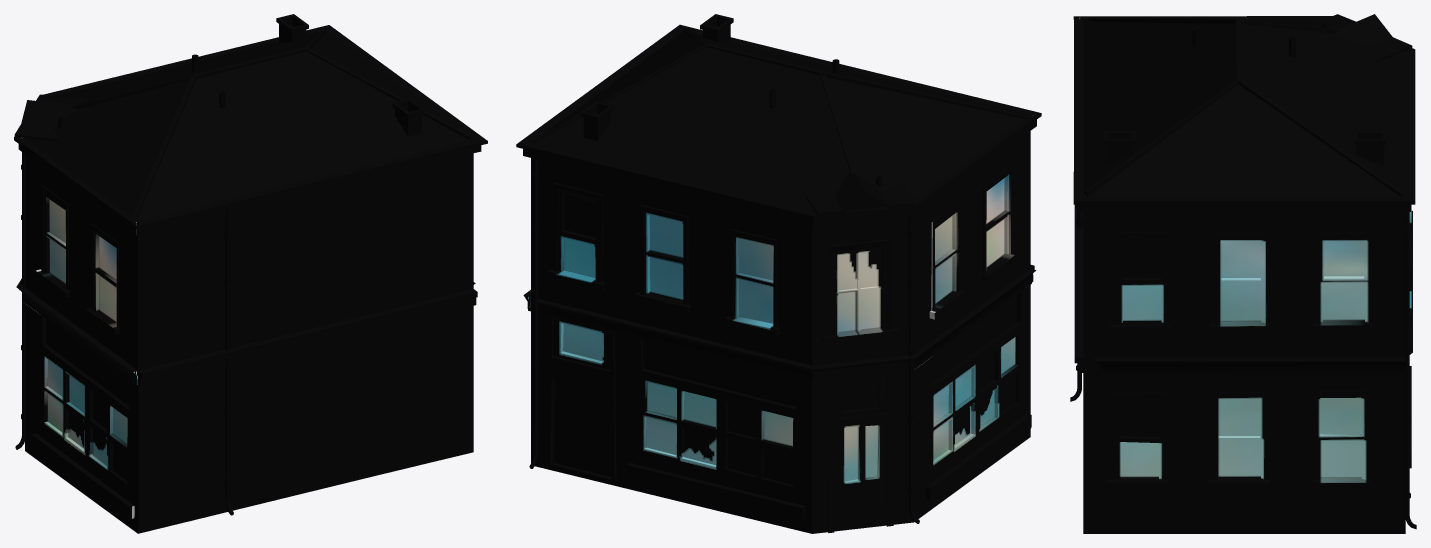
File: old_house.gltf
3 views of the same model, side by side, from view 1: azimuth 30°, elevation 25°; view 2: azimuth 150°, elevation 25°; view 3: azimuth 270°, elevation 25° (orthographic). The views are drawn at different scales.
Parts seen in each view (by area): view 1: house_01; view 2: house_01; view 3: house_01.
Boxes of the visible parts, x1,y1,x2,y2 form: house_01: (14,14,487,533); house_01: (516,14,1041,533); house_01: (1070,14,1416,533).
Bounding box in the file's own units: 165 × 168 × 130.
Materials: 3 (1 with a texture image).
